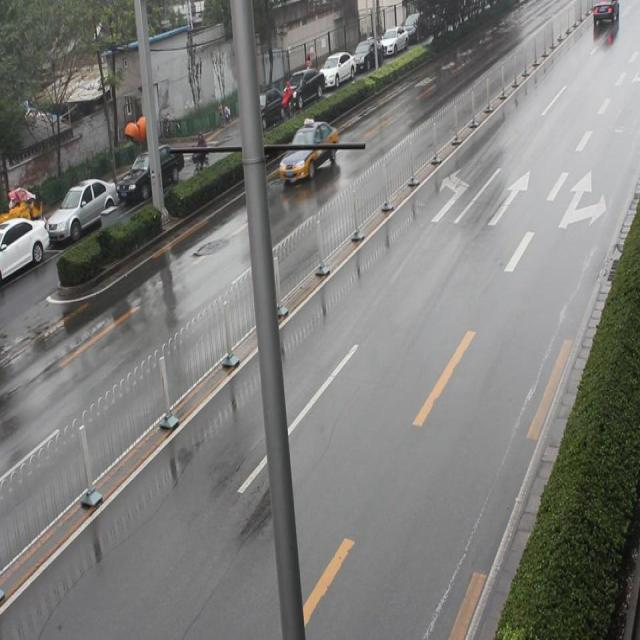car: (278, 111, 337, 188)
